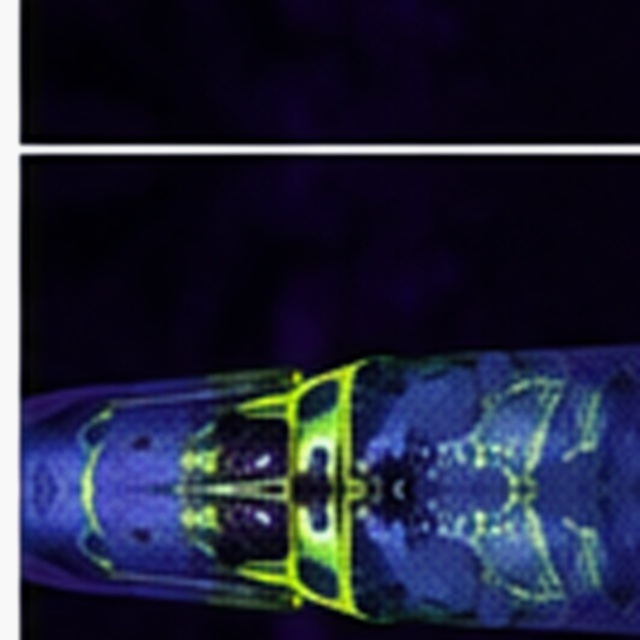hydraulic_oil_leak: (236, 360, 366, 599), (518, 376, 561, 425), (186, 493, 219, 555), (186, 423, 219, 485), (579, 393, 598, 445), (509, 472, 536, 506), (471, 514, 495, 550), (471, 428, 495, 464), (484, 395, 499, 418), (84, 470, 90, 503), (93, 412, 111, 422), (86, 447, 95, 464), (235, 384, 251, 392), (236, 586, 251, 593), (423, 365, 441, 370), (524, 444, 528, 456), (507, 531, 513, 537), (456, 524, 460, 533), (506, 506, 512, 512), (506, 466, 512, 472), (456, 445, 460, 454), (507, 441, 513, 447), (507, 521, 513, 525), (507, 453, 513, 457), (524, 522, 527, 528), (254, 374, 258, 377), (509, 388, 511, 392)
